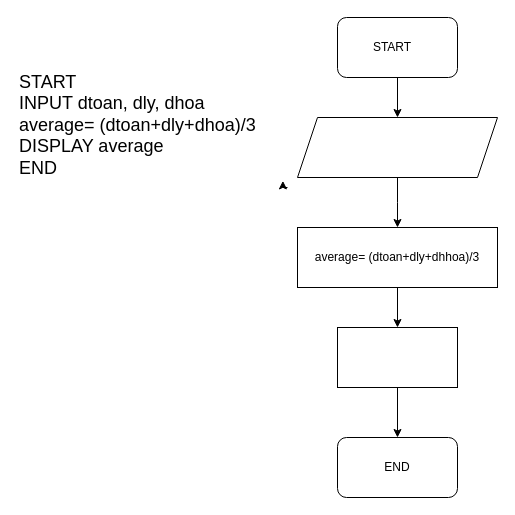
Image size: 515x515. Some labels were removed from this diagram. The centre of each missing label's shape, as x and y in pixels:
DISPLAY average: point 397,357
INPUT dtoan, dly, dhoa: point 397,147
